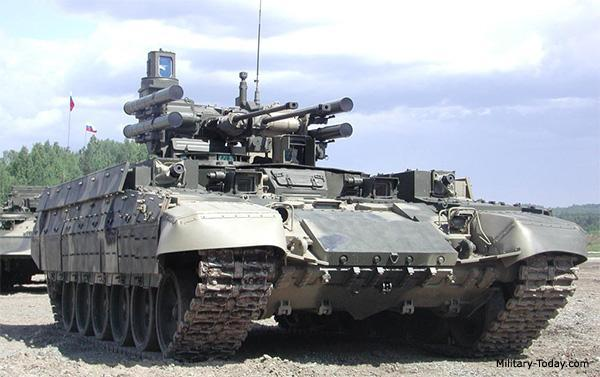tank: (28, 42, 592, 365)
